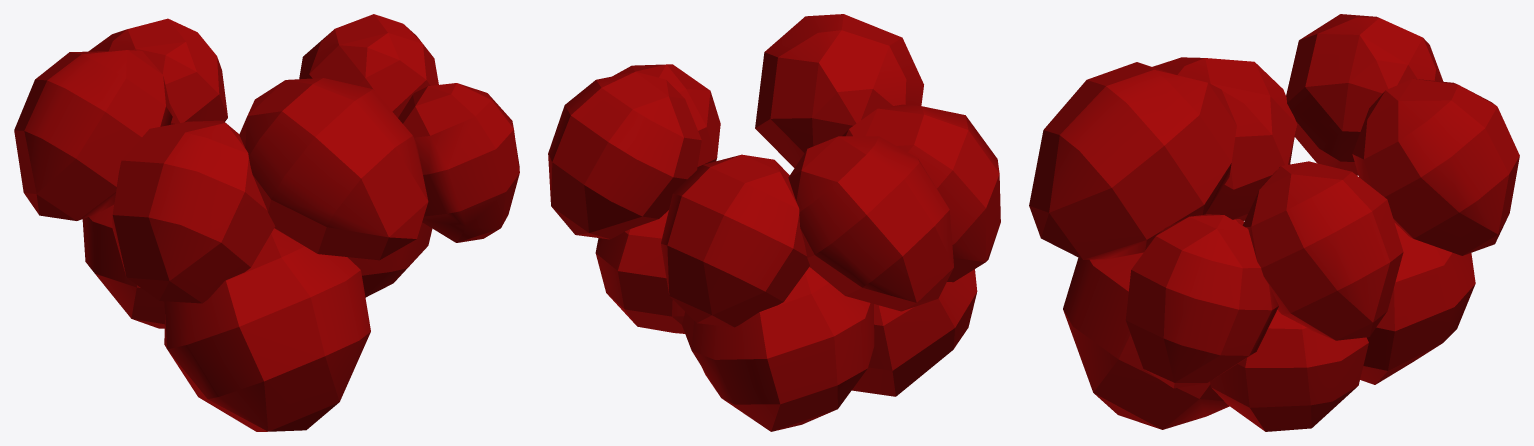
Rendered from SM_Env_Tree_Palm_01_Coconuts_01.glb.
3 views of the same model, side by side, from view 1: azimuth 30°, elevation 25°; view 2: azimuth 150°, elevation 25°; view 3: azimuth 270°, elevation 25° (orthographic). The views are drawn at different scales.
Visible parts, largest first — view 1: SM_Env_Tree_Palm_01_Coconuts_01; view 2: SM_Env_Tree_Palm_01_Coconuts_01; view 3: SM_Env_Tree_Palm_01_Coconuts_01.
Boxes of the visible parts, x1,y1,x2,y2 form: SM_Env_Tree_Palm_01_Coconuts_01: (14,14,519,431); SM_Env_Tree_Palm_01_Coconuts_01: (548,14,1000,431); SM_Env_Tree_Palm_01_Coconuts_01: (1029,14,1519,431).
Size of the model in its own units: 0.864 by 0.6753 by 0.8173.
